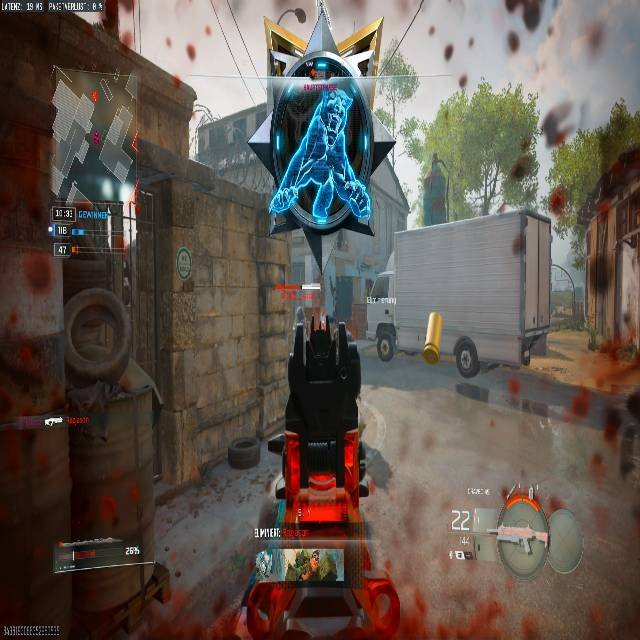player: (374, 313, 395, 363)
